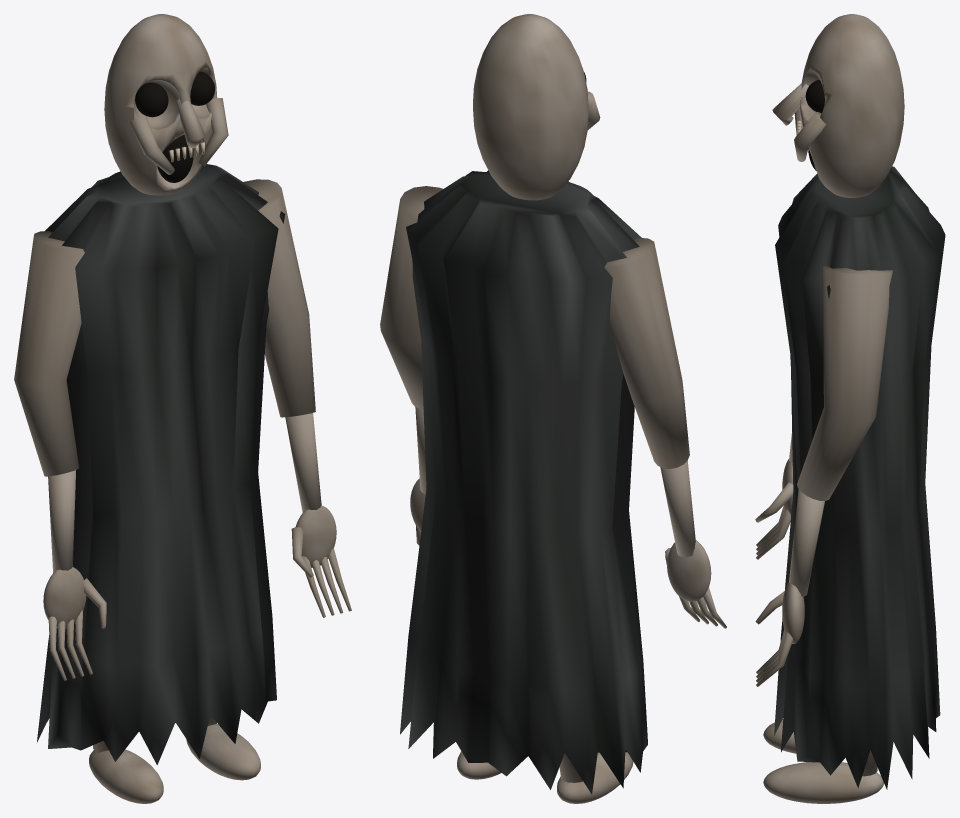
File: night-visitor-v21.glb
3 views of the same model, side by side, from view 1: azimuth 30°, elevation 25°; view 2: azimuth 150°, elevation 25°; view 3: azimuth 270°, elevation 25° (orthographic). The views are drawn at different scales.
Visible parts, largest first — view 1: Torso, ArmL, ArmR, Head, LegL, LegR, Cheek ridge.001, Cheek ridge, Hollow eyes, Mouth darkness, Nasal bone, Hollow eyes.001; view 2: Torso, Head, ArmL, ArmR, LegL, LegR; view 3: Torso, ArmR, Head, LegR, ArmL, Cheek ridge.001, Nasal bone, LegL, Hollow eyes.001.
Boxes of the visible parts, x1,y1,x2,y2 form: Torso: (37, 164, 285, 764); ArmL: (14, 231, 106, 680); ArmR: (243, 179, 351, 617); Head: (104, 14, 217, 195); LegL: (89, 741, 163, 803); LegR: (186, 715, 260, 780); Cheek ridge.001: (197, 98, 228, 166); Cheek ridge: (130, 115, 174, 174); Hollow eyes: (135, 82, 168, 117); Mouth darkness: (157, 135, 193, 182); Nasal bone: (175, 99, 205, 147); Hollow eyes.001: (190, 71, 214, 105); Torso: (400, 170, 647, 794); Head: (473, 14, 588, 200); ArmL: (604, 237, 726, 628); ArmR: (380, 186, 442, 545); LegL: (557, 752, 633, 803); LegR: (457, 751, 501, 779); Torso: (774, 166, 945, 789); ArmR: (755, 264, 892, 686); Head: (799, 14, 904, 197); LegR: (763, 750, 883, 803); ArmL: (755, 432, 793, 559); Cheek ridge.001: (794, 112, 825, 161); Nasal bone: (772, 83, 808, 125); LegL: (763, 719, 796, 753); Hollow eyes.001: (805, 79, 824, 113).
Bounding box in the file's own units: 0.84 × 2.08 × 0.4705.
